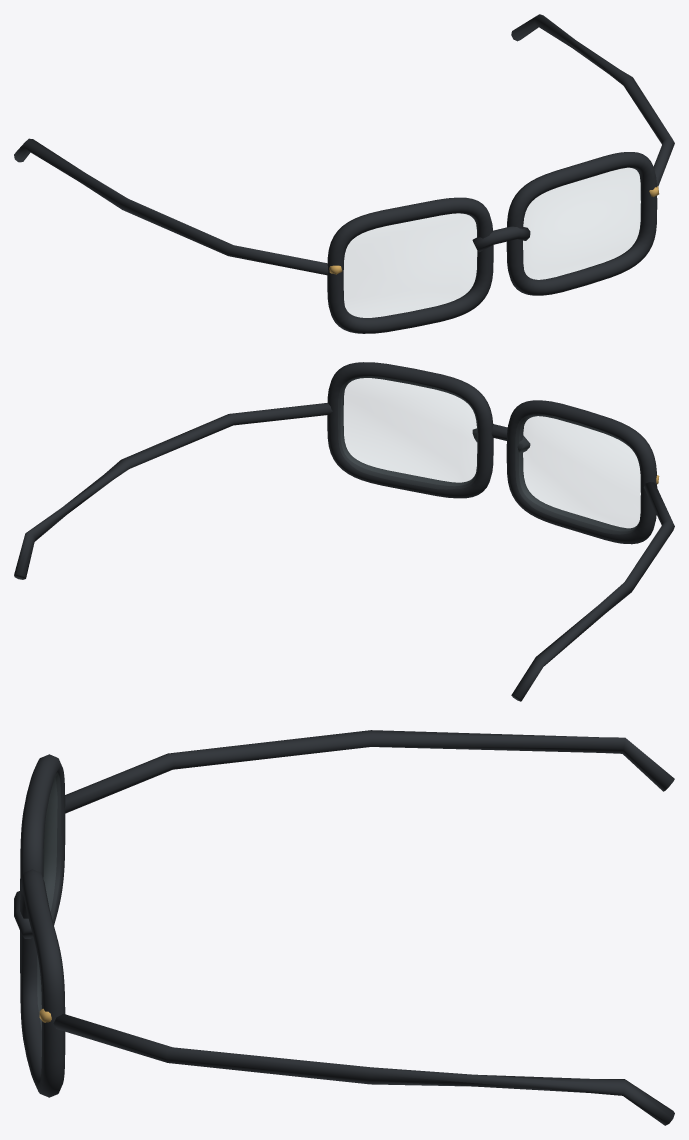
File: 02-library-square.glb
The picture shows the model from 3 angles, top to bottom: view 1: azimuth 30°, elevation 25°; view 2: azimuth 150°, elevation 25°; view 3: azimuth 270°, elevation 25°; orthographic projection. The views are drawn at different scales.
Visible parts, largest first — view 1: Glasses02_Lens-12, Glasses02_Lens14, Glasses02_Rim-11, Glasses02_Rim13, Glasses02_Temple-16, Glasses02_Temple18, Glasses02_Bridge5; view 2: Glasses02_Lens14, Glasses02_Lens-12, Glasses02_Rim13, Glasses02_Rim-11, Glasses02_Temple18, Glasses02_Temple-16; view 3: Glasses02_Temple-16, Glasses02_Temple18, Glasses02_Rim13, Glasses02_Rim-11, Glasses02_Lens-12.
Part boxes in pixels (bbox=[...]): Glasses02_Lens-12: bbox=[344, 214, 476, 317]; Glasses02_Lens14: bbox=[523, 168, 640, 279]; Glasses02_Rim-11: bbox=[327, 197, 493, 333]; Glasses02_Rim13: bbox=[506, 152, 657, 295]; Glasses02_Temple-16: bbox=[14, 138, 328, 275]; Glasses02_Temple18: bbox=[511, 14, 674, 186]; Glasses02_Bridge5: bbox=[472, 226, 530, 252]; Glasses02_Lens14: bbox=[341, 378, 476, 485]; Glasses02_Lens-12: bbox=[519, 416, 640, 530]; Glasses02_Rim13: bbox=[327, 362, 493, 498]; Glasses02_Rim-11: bbox=[506, 400, 657, 544]; Glasses02_Temple18: bbox=[14, 403, 332, 579]; Glasses02_Temple-16: bbox=[511, 482, 674, 701]; Glasses02_Temple-16: bbox=[64, 730, 674, 813]; Glasses02_Temple18: bbox=[53, 1014, 674, 1125]; Glasses02_Rim13: bbox=[20, 869, 65, 1097]; Glasses02_Rim-11: bbox=[20, 754, 65, 924]; Glasses02_Lens-12: bbox=[44, 778, 57, 910].
Bounding box in the file's own units: 0.6374 × 0.143 × 0.5101.
